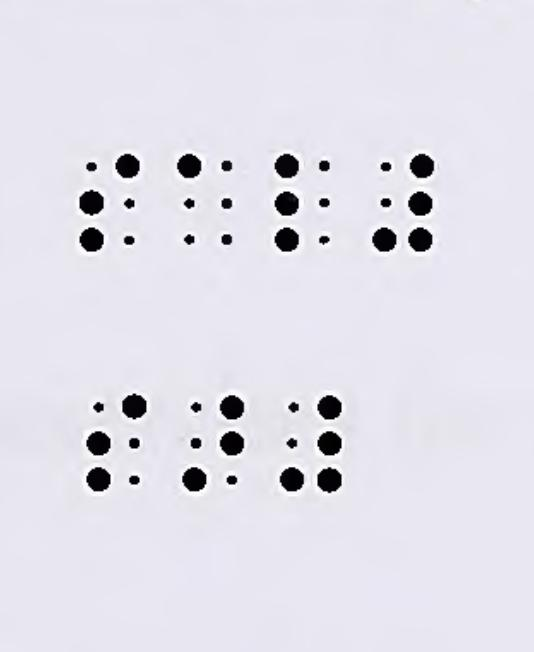a: (175, 151, 239, 260)
ar: (179, 388, 252, 497)
at: (366, 146, 437, 259), (275, 388, 344, 497)
l: (272, 145, 340, 262)
s: (75, 150, 142, 259), (83, 392, 152, 496)
